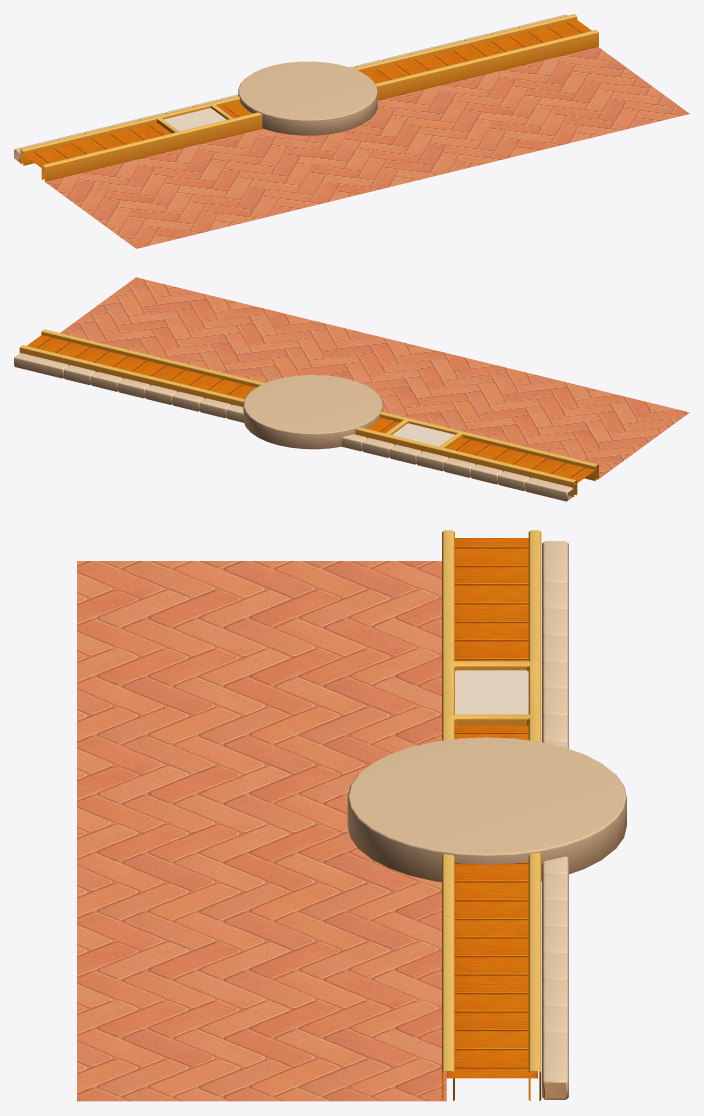
3 renders of one model, top to bottom at view 1: azimuth 30°, elevation 25°; view 2: azimuth 150°, elevation 25°; view 3: azimuth 270°, elevation 25°, orthographic. The views are drawn at different scales.
Visible parts, largest first — view 1: BG; view 2: BG; view 3: BG.
Part boxes in pixels (x1,y1,x2,y2): BG: (14,14,689,248); BG: (14,277,689,501); BG: (77,530,626,1101).
Bounding box in the file's own units: 1897 × 54.24 × 815.
